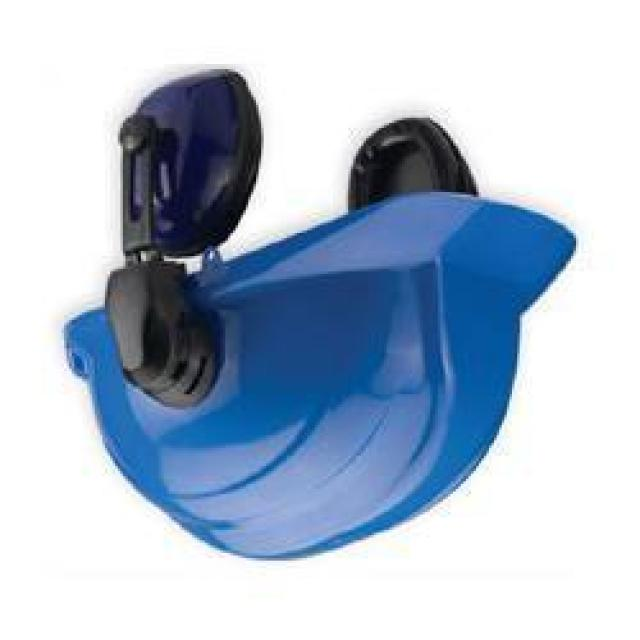Ear-Protection: (118, 66, 264, 258), (333, 105, 476, 215)
Helmet: (56, 190, 581, 568)
